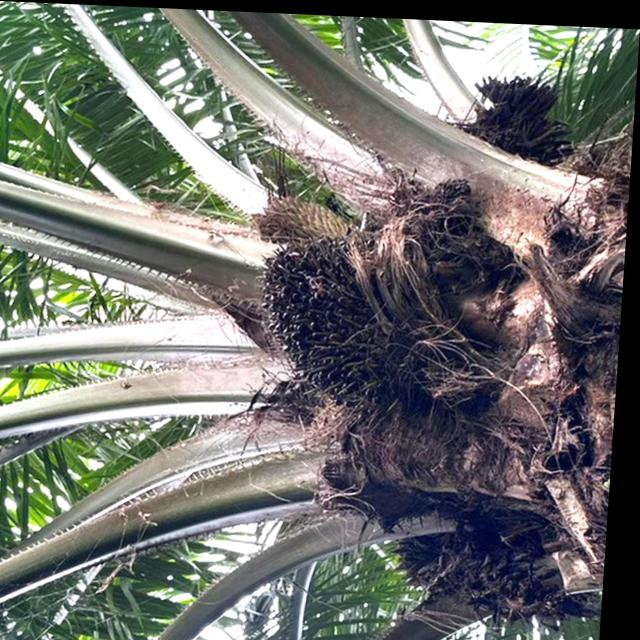unripe: (252, 229, 431, 421), (389, 513, 495, 598)
